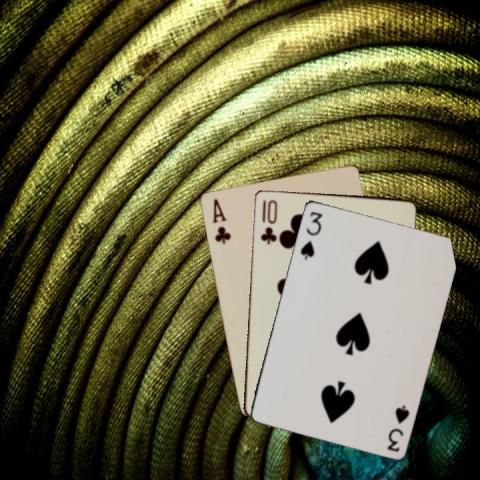10c: (257, 196, 278, 245)
3s: (384, 401, 411, 453), (297, 208, 323, 260)
Ac: (210, 195, 231, 246)
